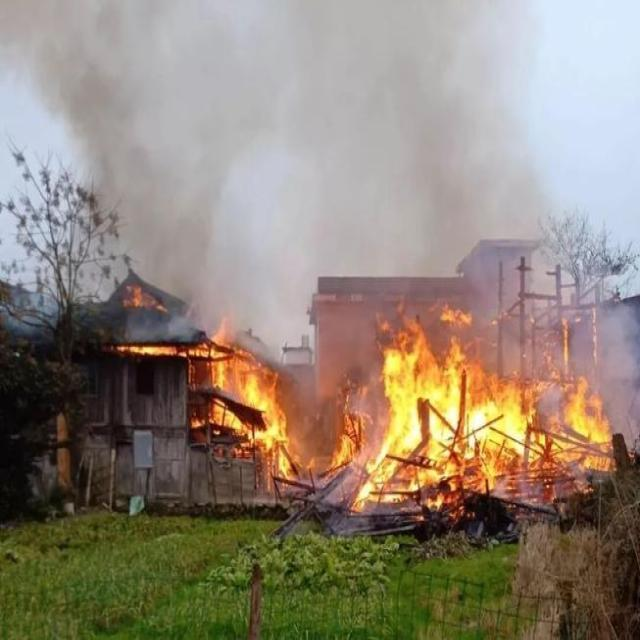Fire: (380, 305, 526, 440), (206, 322, 288, 449), (566, 382, 608, 440)
Smoke: (8, 1, 566, 299)
